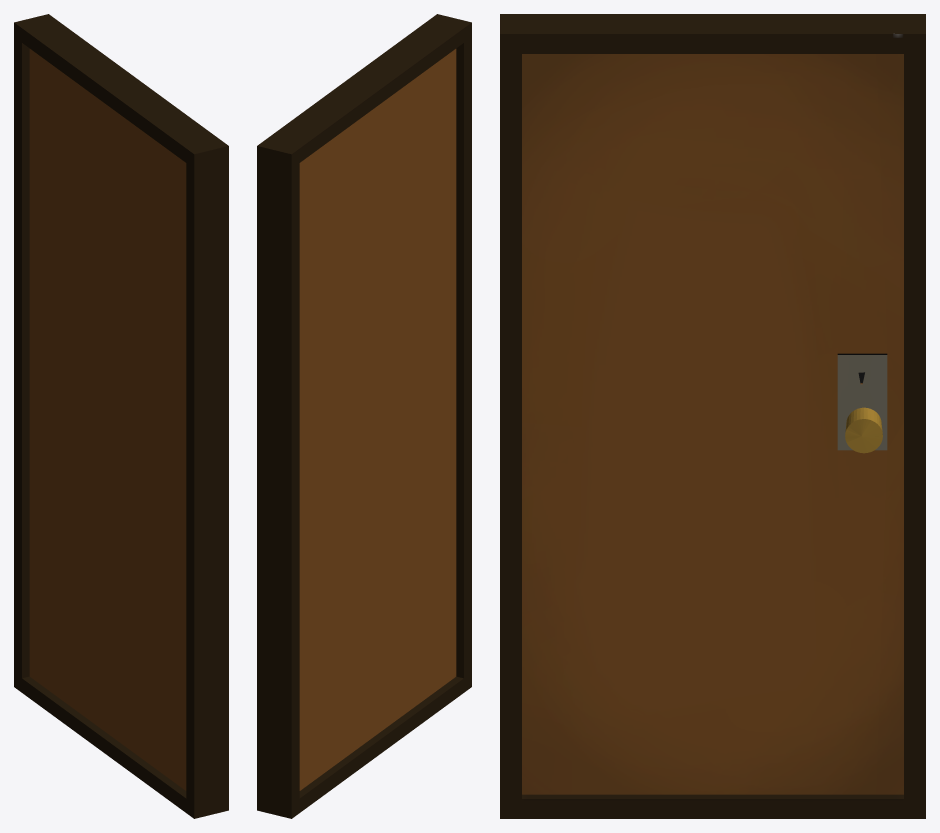
Rendered from SC_Door.fbx.
3 views of the same model, side by side, from view 1: azimuth 30°, elevation 25°; view 2: azimuth 150°, elevation 25°; view 3: azimuth 270°, elevation 25° (orthographic). The views are drawn at different scales.
Visible parts, largest first — view 1: SC_Door; view 2: SC_Door; view 3: SC_Door.
Boxes of the visible parts, x1,y1,x2,y2 form: SC_Door: (14,14,228,818); SC_Door: (257,14,471,818); SC_Door: (500,14,925,818).
Size of the model in its own units: 45.24 by 574 by 282.
